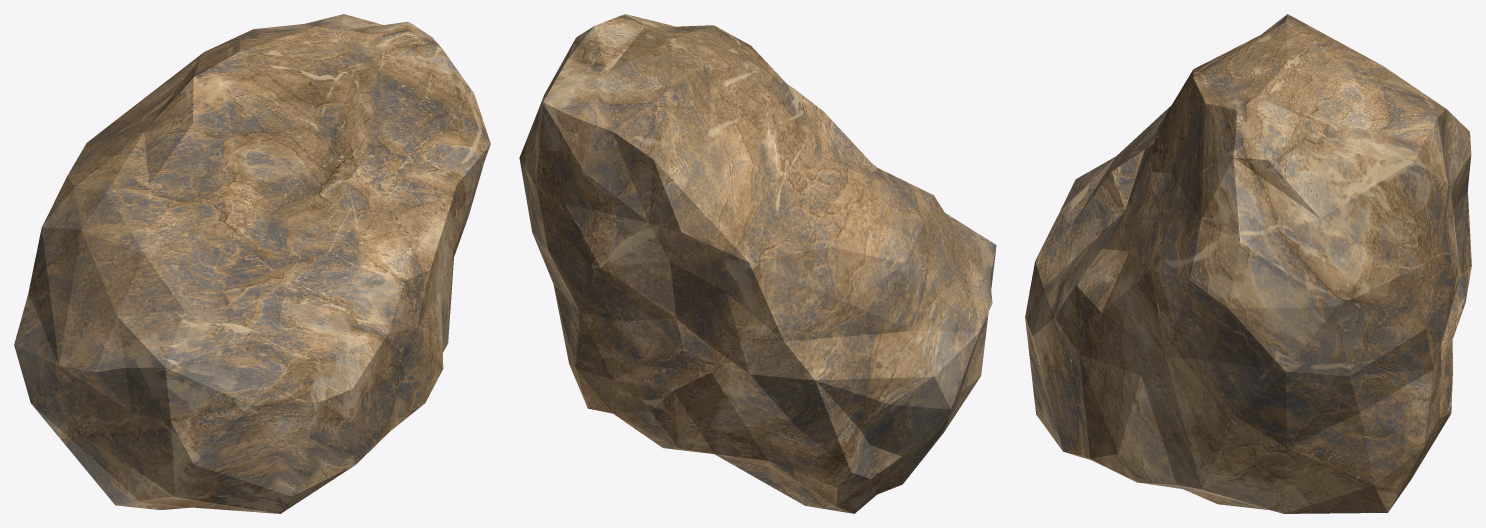
File: cliff_rock_01.glb
The picture shows the model from 3 angles, left to right: view 1: azimuth 30°, elevation 25°; view 2: azimuth 150°, elevation 25°; view 3: azimuth 270°, elevation 25°; orthographic projection. The views are drawn at different scales.
Visible parts, largest first — view 1: world; view 2: world; view 3: world.
Boxes of the visible parts, x1,y1,x2,y2 form: world: (14,14,490,513); world: (519,14,996,513); world: (1025,14,1471,513).
Size of the model in its own units: 1.06 by 1.03 by 0.796.
1 material, 1 textured.
